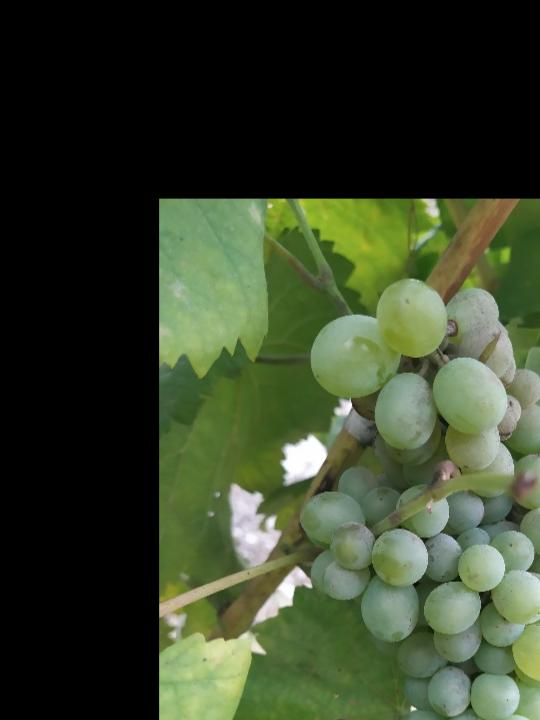grape: (296, 270, 540, 720)
